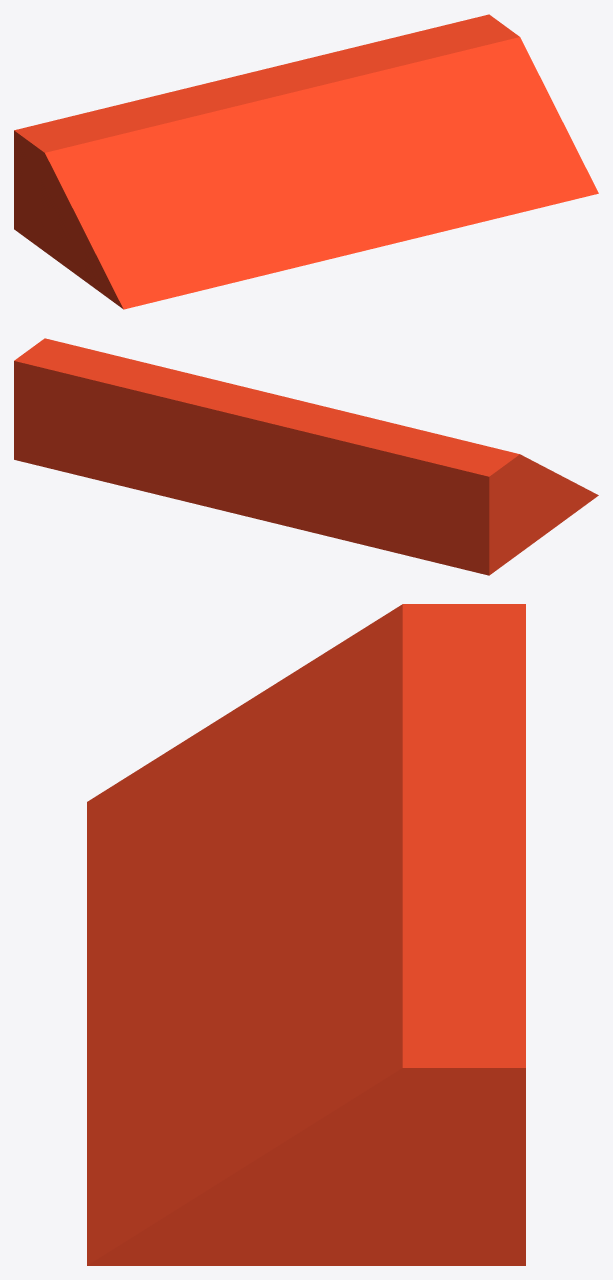
The model's file is SM_Skate_Slope_City.fbx.
The picture shows the model from 3 angles, top to bottom: view 1: azimuth 30°, elevation 25°; view 2: azimuth 150°, elevation 25°; view 3: azimuth 270°, elevation 25°; orthographic projection. The views are drawn at different scales.
Parts seen in each view (by area): view 1: SM_Skate_Slope_City; view 2: SM_Skate_Slope_City; view 3: SM_Skate_Slope_City.
Part boxes in pixels (left/top/right/bottom): SM_Skate_Slope_City: left=14, top=14, right=598, bottom=309; SM_Skate_Slope_City: left=14, top=338, right=598, bottom=575; SM_Skate_Slope_City: left=87, top=604, right=525, bottom=1265.
Bounding box in the file's own units: 5 × 0.9945 × 2.
